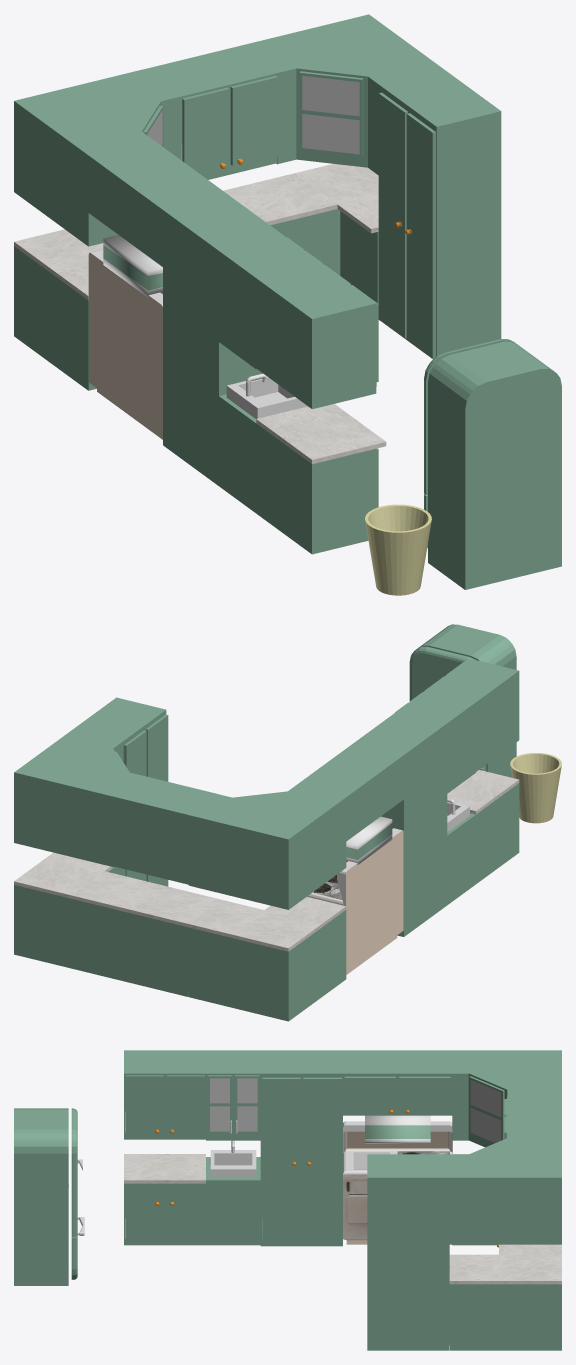
Rendered from Kitchen (1).fbx.
3 renders of one model, top to bottom at view 1: azimuth 30°, elevation 25°; view 2: azimuth 150°, elevation 25°; view 3: azimuth 270°, elevation 25°, orthographic. The views are drawn at different scales.
Parts seen in each view (by area): view 1: Cube.184, Cube.220, Cube.190, Cube.206, Cube.195, Cube.216, Cube.181, Cube.064, Cube.221, Cube.149, Cube.222, Cube.198 (+17 smaller); view 2: Cube.206, Cube.216, Cube.149, Cube.190, Cube.213, Cube.135, Cube.064, Cube.159, Cube.195, Cube.147, Cube.136, Cube.198 (+14 smaller); view 3: Cube.220, Cube.216, Cube.184, Cube.135, Cube.189, Cube.188, Cube.206, Cube.064, Cube.136, Cube.138, Cube.190, Cube.195 (+18 smaller).
Part boxes in pixels (x1,y1,x2,y2): Cube.184: (428,341,561,589); Cube.220: (381,70,501,355); Cube.190: (163,194,283,485); Cube.206: (14,69,180,246); Cube.195: (256,262,376,409); Cube.216: (240,14,444,175); Cube.181: (256,424,376,554); Cube.064: (88,250,162,439); Cube.221: (406,113,435,358); Cube.149: (14,246,96,390); Cube.222: (378,92,407,338); Cube.198: (219,235,320,369); Cube.206: (188,785,346,909); Cube.216: (14,729,142,867); Cube.149: (188,910,346,1021); Cube.190: (354,711,447,936); Cube.213: (114,776,216,884); Cube.135: (14,867,125,978); Cube.064: (307,828,403,974); Cube.159: (114,909,188,996); Cube.195: (426,658,519,771); Cube.147: (188,897,346,951); Cube.136: (14,852,146,908); Cube.198: (397,690,475,793); Cube.220: (367,1154,449,1350); Cube.216: (449,1131,561,1244); Cube.184: (14,1108,68,1285); Cube.135: (449,1284,561,1350); Cube.189: (303,1077,341,1244); Cube.188: (262,1077,300,1244); Cube.206: (452,1050,561,1147); Cube.064: (343,1121,452,1244); Cube.136: (449,1244,561,1284); Cube.138: (206,1157,260,1245); Cube.190: (260,1050,342,1246); Cube.195: (124,1050,205,1139).
Size of the model in its own units: 1100 by 699 by 2001.
